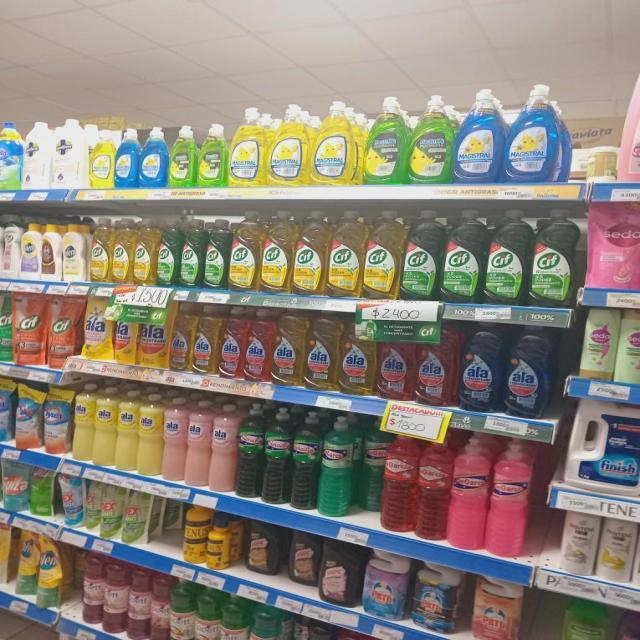ala_conc_amarillo: (339, 319, 376, 396), (305, 311, 338, 390), (272, 309, 304, 386), (192, 304, 218, 376), (169, 302, 192, 373)
ala_conc_azul: (505, 324, 553, 418), (459, 321, 503, 412)
ala_conc_rojo: (416, 321, 458, 407), (378, 332, 413, 401), (244, 308, 271, 382), (219, 306, 244, 380)
ala_crem_amarillo: (138, 392, 163, 477), (116, 390, 138, 472), (94, 386, 116, 467), (72, 384, 94, 463)
ala_crem_rosado: (211, 403, 236, 492), (187, 400, 210, 488), (164, 398, 186, 482)
ala_sachet_amarillo: (139, 300, 168, 369), (82, 295, 112, 361), (114, 299, 137, 365)
cif_conc_bot_amarilla: (363, 209, 401, 299), (327, 209, 362, 297), (293, 209, 325, 295), (260, 210, 292, 294), (230, 210, 260, 292), (133, 217, 156, 286), (89, 215, 111, 282), (112, 217, 133, 284)
cif_conc_botella_verde: (528, 208, 577, 308), (484, 208, 527, 306), (442, 208, 482, 303), (402, 208, 440, 300), (204, 216, 229, 290), (180, 215, 203, 288), (157, 216, 179, 287)
cif_conc_sachet_verde: (0, 288, 13, 364)
magistral_con_amarillo: (313, 100, 360, 185), (269, 104, 310, 185), (230, 106, 267, 186), (89, 126, 114, 188)
magistral_con_azul: (505, 84, 562, 183), (455, 88, 503, 184), (140, 126, 167, 188), (114, 128, 139, 188)
magistral_con_crema: (169, 125, 197, 187)
magistral_con_verde: (198, 124, 228, 188)
